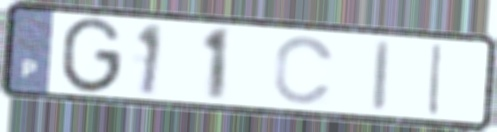1: (199, 23, 239, 106), (133, 21, 166, 99)
C: (270, 33, 338, 107)
G: (57, 15, 126, 96)
I: (369, 37, 394, 115), (425, 41, 447, 118)
